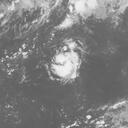cyclone: (45, 45, 83, 85)
